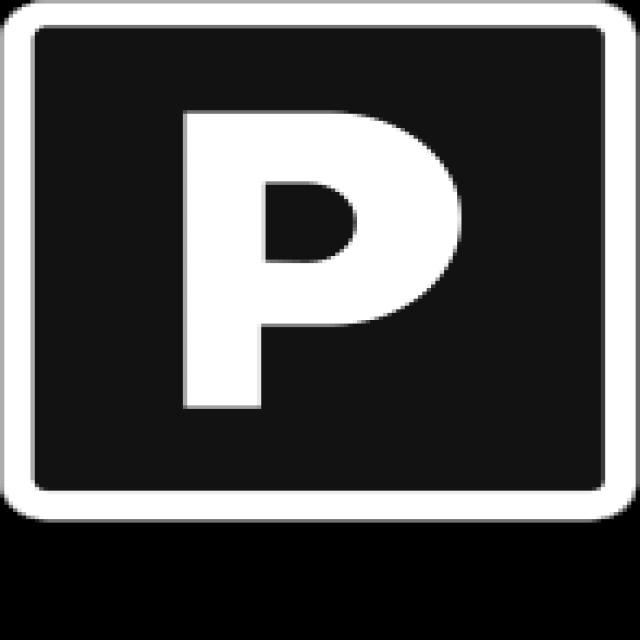indication: (2, 0, 640, 523)
